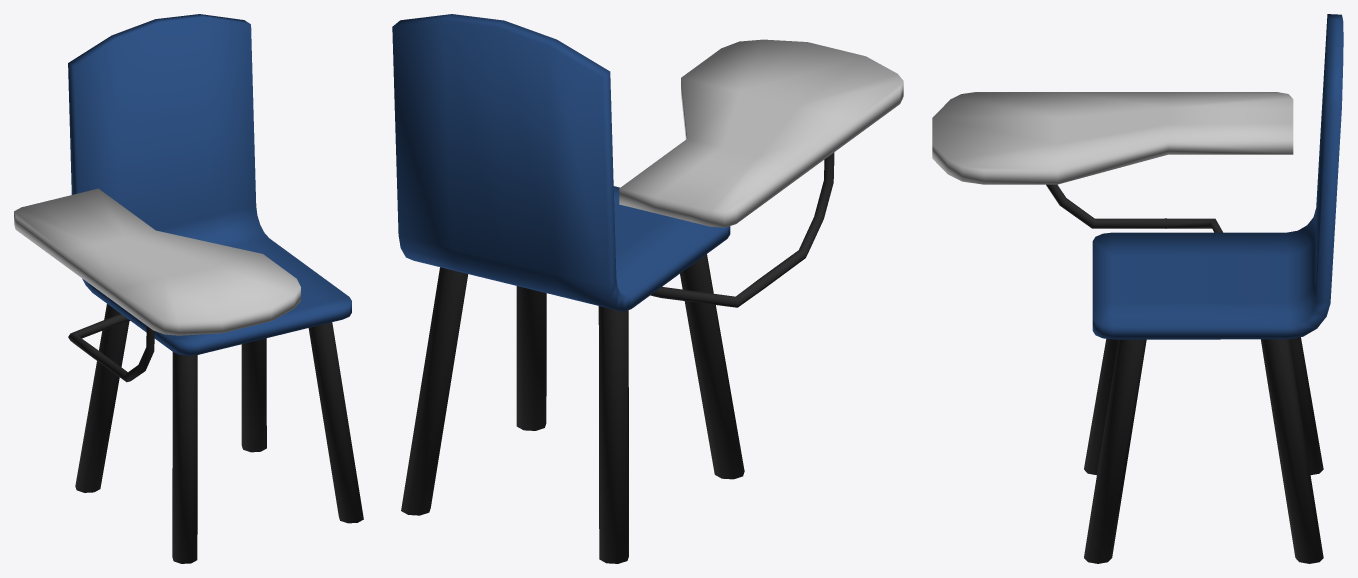
Rendered from Cadeira_Carteira.fbx.
The picture shows the model from 3 angles, left to right: view 1: azimuth 30°, elevation 25°; view 2: azimuth 150°, elevation 25°; view 3: azimuth 270°, elevation 25°; orthographic projection. The views are drawn at different scales.
Visible parts, largest first — view 1: Cilindro.001; view 2: Cilindro.001; view 3: Cilindro.001.
Part boxes in pixels (box(x1,y1,x2,y2)): Cilindro.001: box(14, 14, 363, 563); Cilindro.001: box(392, 14, 903, 563); Cilindro.001: box(932, 14, 1343, 563).
Size of the model in its own units: 105 by 166 by 130.
